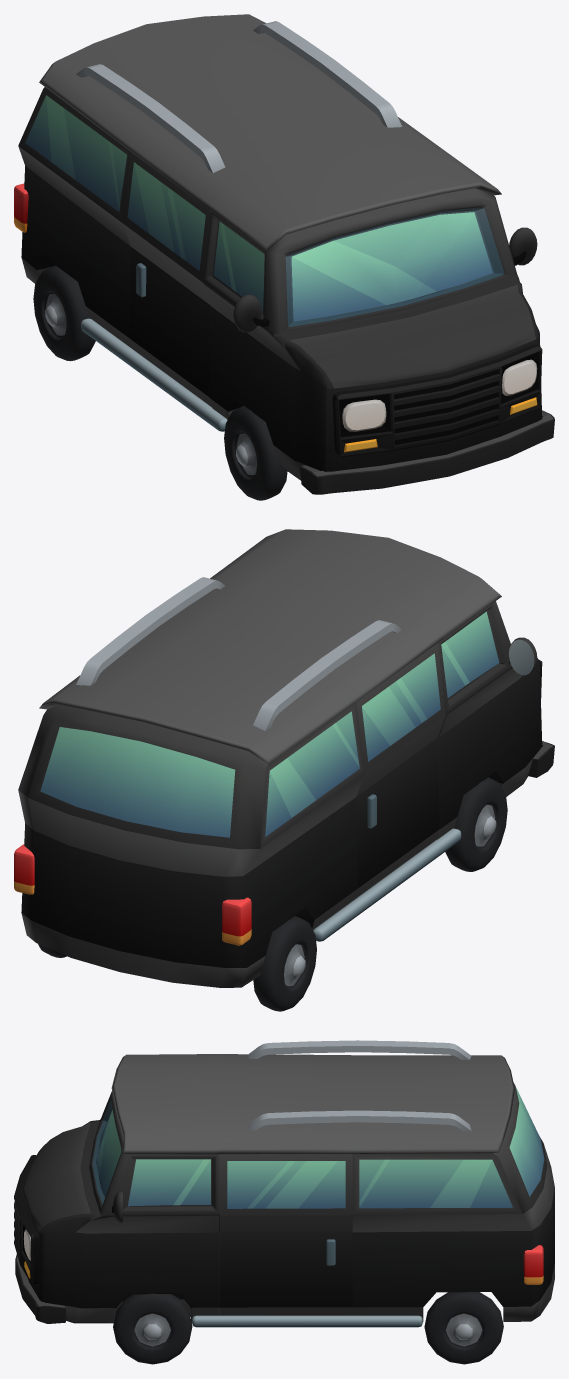
Rendered from Car_Van.fbx.
3 renders of one model, top to bottom at view 1: azimuth 30°, elevation 25°; view 2: azimuth 150°, elevation 25°; view 3: azimuth 270°, elevation 25°, orthographic. The views are drawn at different scales.
Visible parts, largest first — view 1: Car, RightDoor, Wheel_FrontRight, Wheel_Back; view 2: Car, RightDoor, Wheel_Back, Wheel_FrontRight; view 3: Car, LeftDoor, Wheel_Back, Wheel_FrontLeft.
Part boxes in pixels (x1,y1,x2,y2): Car: [14, 14, 554, 494]; RightDoor: [122, 152, 211, 396]; Wheel_FrontRight: [224, 406, 287, 500]; Wheel_Back: [33, 265, 95, 361]; Car: [14, 529, 554, 987]; RightDoor: [356, 643, 446, 887]; Wheel_Back: [38, 916, 316, 1011]; Wheel_FrontRight: [445, 777, 507, 871]; Car: [14, 1040, 554, 1327]; LeftDoor: [220, 1154, 352, 1307]; Wheel_Back: [424, 1292, 503, 1364]; Wheel_FrontLeft: [113, 1293, 192, 1364].
Bounding box in the file's own units: 309 × 287 × 585.
